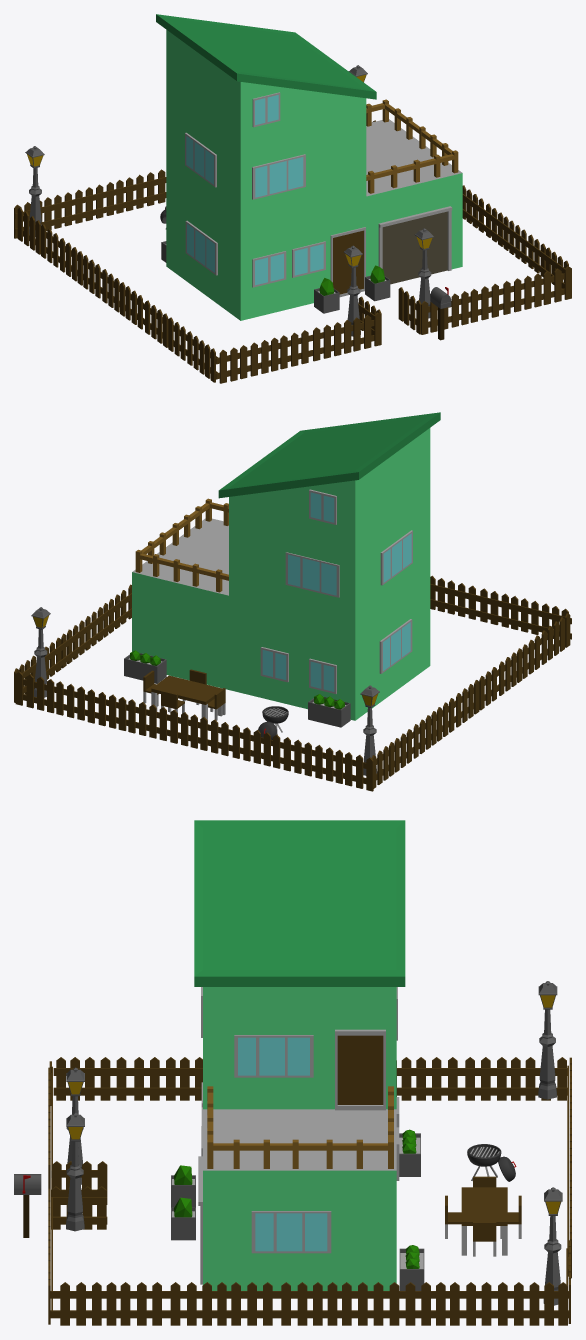
3 renders of one model, top to bottom at view 1: azimuth 30°, elevation 25°; view 2: azimuth 150°, elevation 25°; view 3: azimuth 270°, elevation 25°, orthographic. The views are drawn at different scales.
Parts seen in each view (by area): view 1: ee1; view 2: ee1; view 3: ee1.
Part boxes in pixels (<box>): ee1: <box>14,14,571,383</box>; ee1: <box>14,412,571,791</box>; ee1: <box>14,820,571,1325</box>.
Size of the model in its own units: 25.08 by 16.93 by 26.01.
